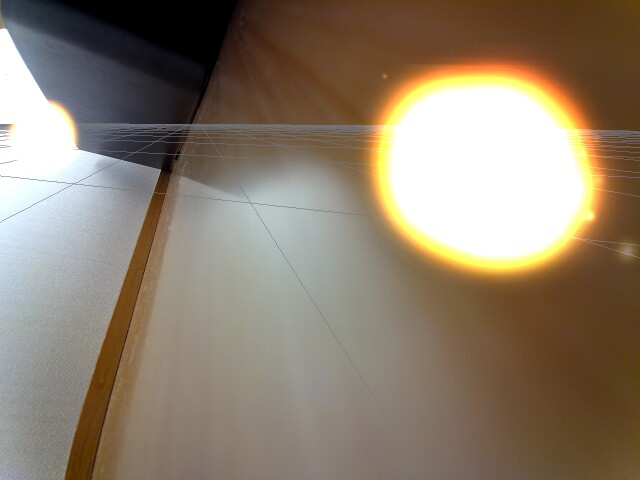firebig: (325, 24, 610, 288)
